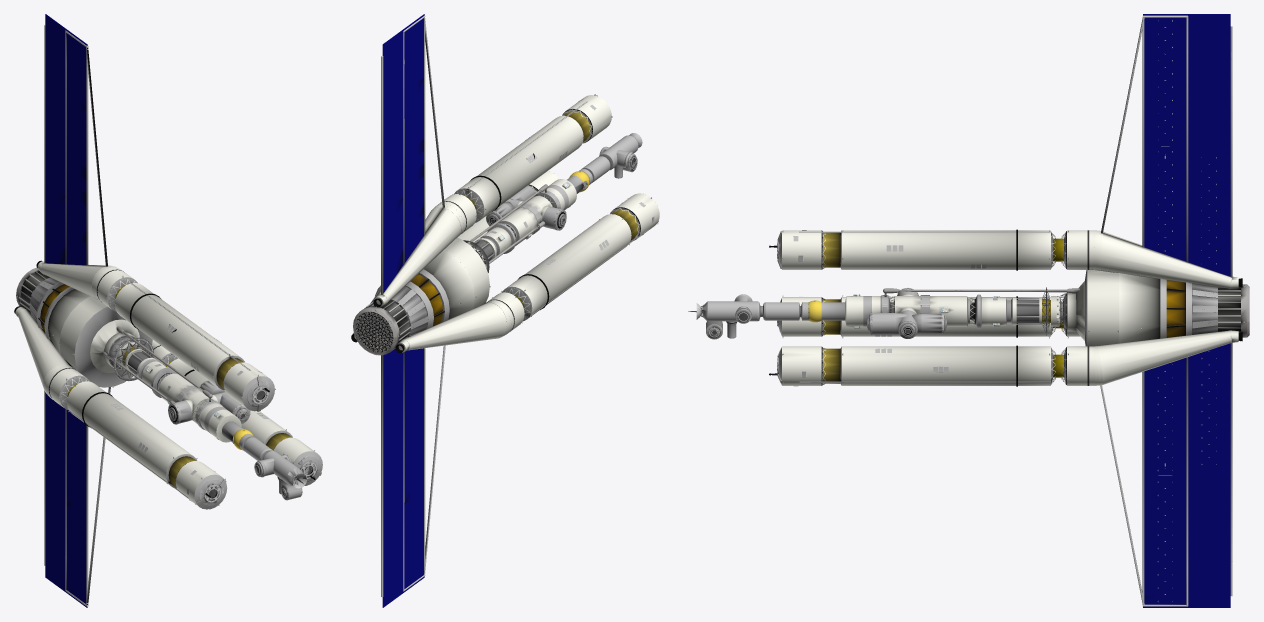
The model's file is hail-mary.glb.
3 views of the same model, side by side, from view 1: azimuth 30°, elevation 25°; view 2: azimuth 150°, elevation 25°; view 3: azimuth 270°, elevation 25° (orthographic). The views are drawn at different scales.
Parts seen in each view (by area): view 1: Main Ship, Main Ship LOW, Habitat, Habitat LOW, Main Habitat Lines; view 2: Main Ship LOW, Main Ship, Habitat, Habitat LOW, Main Habitat Lines; view 3: Main Ship LOW, Main Ship, Habitat, Habitat LOW.
Part boxes in pixels (<box>): Main Ship: <box>14,25,322,606</box>; Main Ship LOW: <box>19,14,313,607</box>; Habitat: <box>114,337,306,500</box>; Habitat LOW: <box>113,337,306,493</box>; Main Habitat Lines: <box>102,326,212,403</box>; Main Ship LOW: <box>353,14,640,607</box>; Main Ship: <box>351,15,659,597</box>; Habitat: <box>463,133,642,272</box>; Habitat LOW: <box>464,134,639,272</box>; Main Habitat Lines: <box>467,184,548,265</box>; Main Ship LOW: <box>778,14,1249,607</box>; Main Ship: <box>769,14,1249,606</box>; Habitat: <box>688,288,1062,339</box>; Habitat LOW: <box>691,287,1058,335</box>.
Bounding box in the file's own units: 11.24 × 46.65 × 40.
